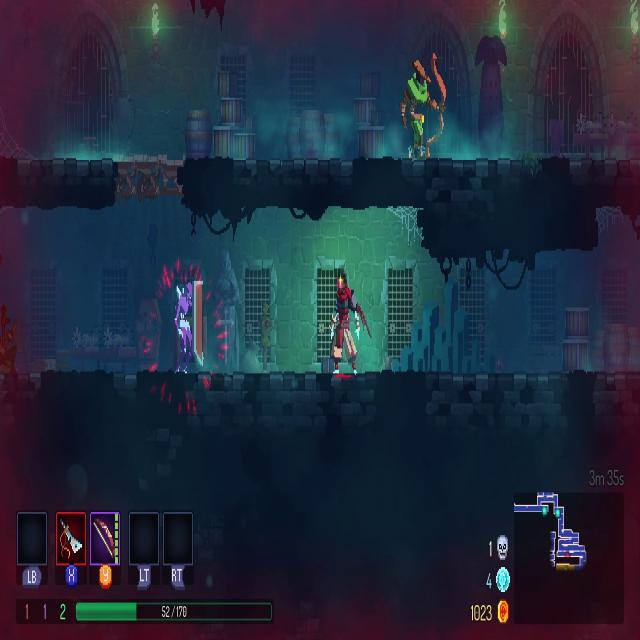agents: (330, 270, 360, 374)
enemy_archer: (401, 53, 446, 159)
enemy_purple_shield: (175, 281, 203, 372)
